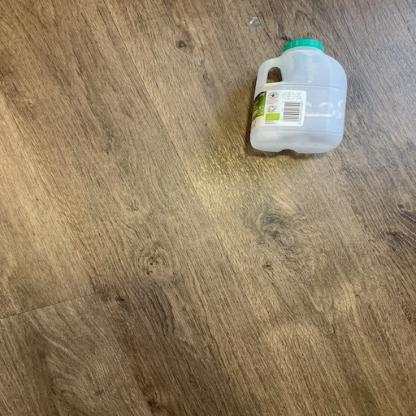trash: (247, 38, 348, 158)
